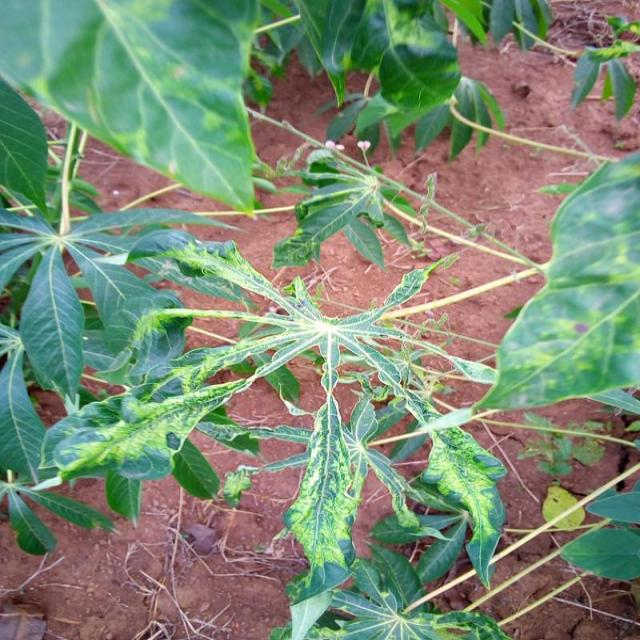cassava leaf: (0, 0, 262, 217), (473, 148, 638, 415)
